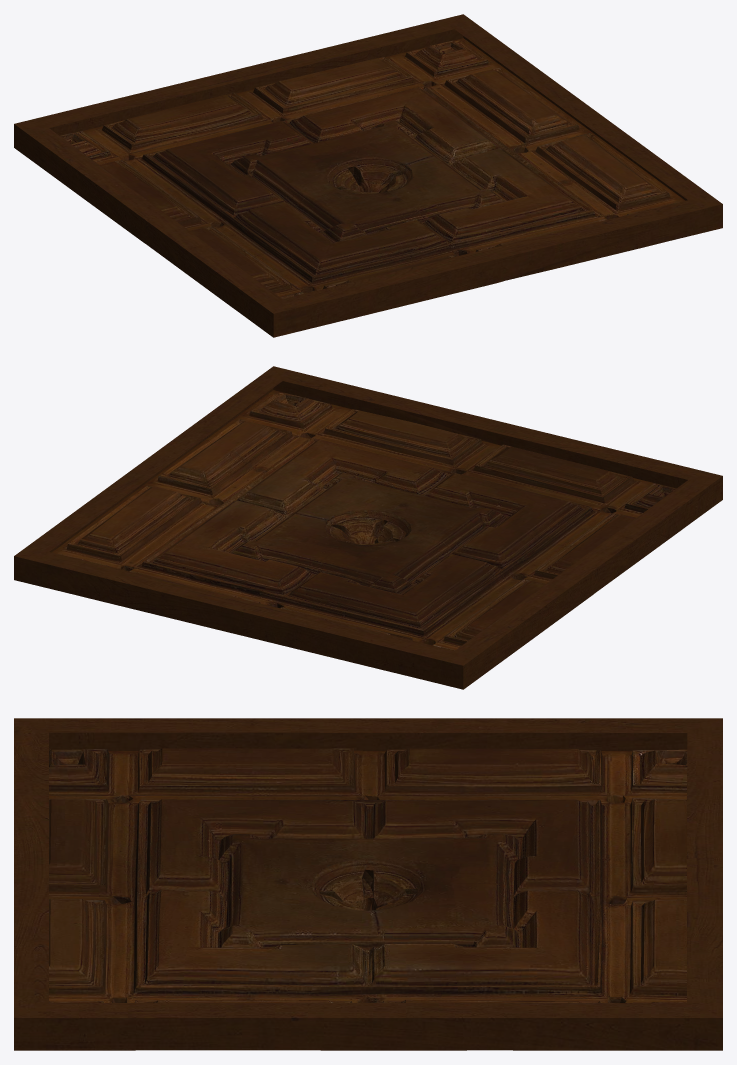
The model's file is ceiling-coffered.glb.
3 views of the same model, one above another, from view 1: azimuth 30°, elevation 25°; view 2: azimuth 150°, elevation 25°; view 3: azimuth 270°, elevation 25° (orthographic). The views are drawn at different scales.
Parts seen in each view (by area): view 1: ceiling-coffered; view 2: ceiling-coffered; view 3: ceiling-coffered.
Part boxes in pixels (x1,y1,x2,y2): ceiling-coffered: (14,14,722,337); ceiling-coffered: (14,366,722,689); ceiling-coffered: (14,718,722,1050).
Size of the model in its own units: 4 by 0.7849 by 4.
1 material, 1 textured.
